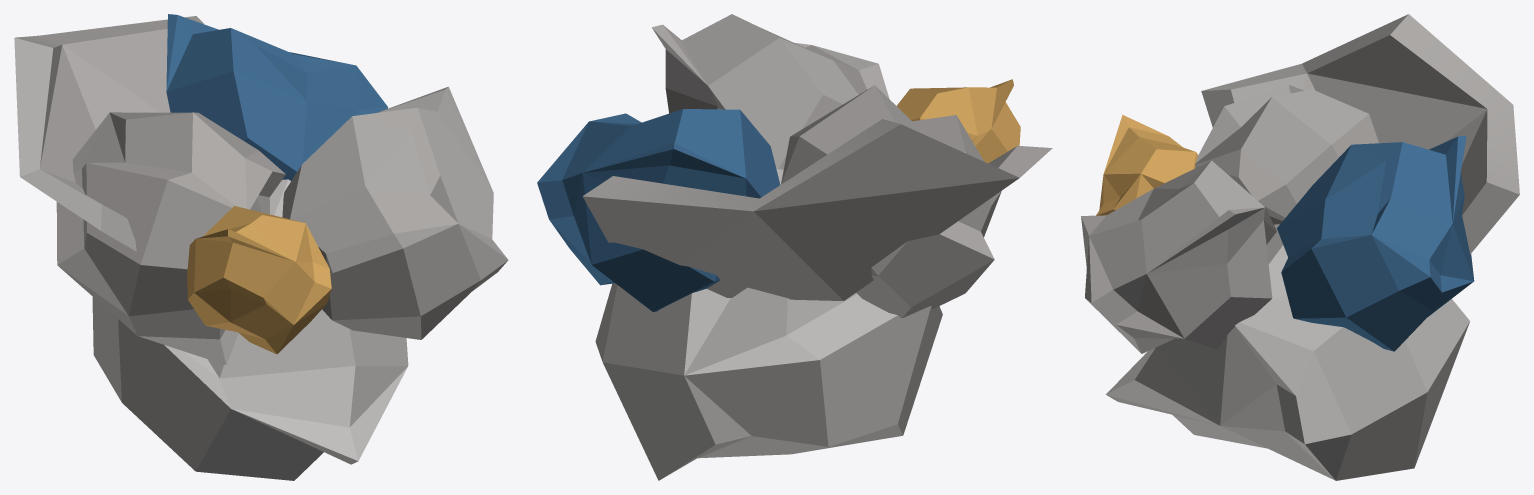
File: SM_Prop_Bin_Rubbish_01.glb
3 views of the same model, side by side, from view 1: azimuth 30°, elevation 25°; view 2: azimuth 150°, elevation 25°; view 3: azimuth 270°, elevation 25° (orthographic). The views are drawn at different scales.
Visible parts, largest first — view 1: SM_Prop_Bin_Rubbish_01; view 2: SM_Prop_Bin_Rubbish_01; view 3: SM_Prop_Bin_Rubbish_01.
Boxes of the visible parts, bbox=[...] form: SM_Prop_Bin_Rubbish_01: bbox=[14, 14, 508, 480]; SM_Prop_Bin_Rubbish_01: bbox=[537, 14, 1052, 480]; SM_Prop_Bin_Rubbish_01: bbox=[1081, 14, 1519, 480].
Size of the model in its own units: 0.3266 by 0.3101 by 0.3482.
Materials: 1 (1 with a texture image).
